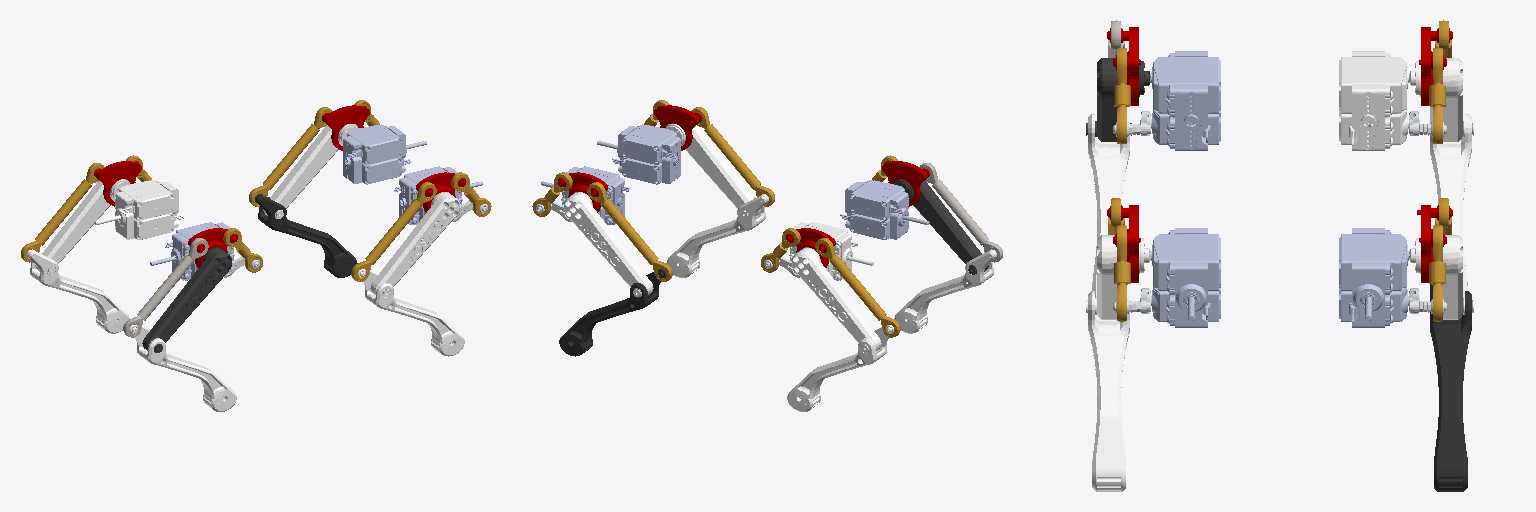
--- Render facts (derived) ---
Views: 3 orthographic renders of the robot side by side, from view 1: azimuth 30°, elevation 25°; view 2: azimuth 150°, elevation 25°; view 3: azimuth 270°, elevation 25°.
Model URDF_MOSAC_V3 with 37 links and 36 joints (36 continuous), rooted at chasis_base_link, posed every joint at zero.
Links seen in each view (by area): view 1: BBL_link, BFL_link, BR_servo_femur_link, FR_servo_femur_link, FL_tibia_link, BL_tibia_link, BR_tibia_link, FR_tibia_link, FL_servo_femur_link, BL_servo_femur_link, FR_rotula_grande_tibia_link, BR_rotula_grande_tibia_link (+10 smaller); view 2: BBR_link, BFR_link, BL_servo_femur_link, FL_servo_femur_link, BR_tibia_link, FR_tibia_link, BL_tibia_link, FL_tibia_link, FR_servo_femur_link, BR_servo_femur_link, FL_rotula_grande_tibia_link, BL_rotula_grande_tibia_link (+10 smaller); view 3: BFR_link, BFL_link, BBR_link, BBL_link, FR_tibia_link, FL_tibia_link, BR_tibia_link, BL_tibia_link, FR_servo_femur_link, FL_servo_femur_link, BR_servo_femur_link, BL_servo_femur_link (+8 smaller).
Link boxes in pixels (left/top/right/bottom): BBL_link: left=94, top=180, right=183, bottom=239; BFL_link: left=343, top=124, right=426, bottom=184; BR_servo_femur_link: left=142, top=247, right=231, bottom=352; FR_servo_femur_link: left=370, top=192, right=459, bottom=296; FL_tibia_link: left=255, top=194, right=357, bottom=277; BL_tibia_link: left=27, top=249, right=129, bottom=333; BR_tibia_link: left=130, top=325, right=236, bottom=411; FR_tibia_link: left=358, top=269, right=464, bottom=356; FL_servo_femur_link: left=263, top=124, right=358, bottom=218; BL_servo_femur_link: left=35, top=179, right=129, bottom=274; FR_rotula_grande_tibia_link: left=351, top=182, right=436, bottom=281; BR_rotula_grande_tibia_link: left=123, top=238, right=208, bottom=337; BBR_link: left=840, top=180, right=929, bottom=239; BFR_link: left=597, top=124, right=680, bottom=184; BL_servo_femur_link: left=792, top=247, right=881, bottom=352; FL_servo_femur_link: left=564, top=192, right=653, bottom=296; BR_tibia_link: left=894, top=249, right=996, bottom=333; FR_tibia_link: left=666, top=194, right=768, bottom=277; BL_tibia_link: left=787, top=325, right=893, bottom=411; FL_tibia_link: left=559, top=269, right=665, bottom=356; FR_servo_femur_link: left=665, top=124, right=760, bottom=218; BR_servo_femur_link: left=894, top=179, right=988, bottom=274; FL_rotula_grande_tibia_link: left=587, top=182, right=672, bottom=281; BL_rotula_grande_tibia_link: left=815, top=238, right=900, bottom=337; BFR_link: left=1150, top=228, right=1220, bottom=327; BFL_link: left=1339, top=228, right=1409, bottom=327; BBR_link: left=1150, top=51, right=1220, bottom=150; BBL_link: left=1339, top=51, right=1409, bottom=150; FR_tibia_link: left=1088, top=284, right=1129, bottom=491; FL_tibia_link: left=1430, top=284, right=1471, bottom=491; BR_tibia_link: left=1088, top=107, right=1129, bottom=297; BL_tibia_link: left=1430, top=107, right=1471, bottom=297; FR_servo_femur_link: left=1086, top=235, right=1149, bottom=319; FL_servo_femur_link: left=1410, top=235, right=1473, bottom=319; BR_servo_femur_link: left=1086, top=58, right=1149, bottom=141; BL_servo_femur_link: left=1410, top=58, right=1473, bottom=141.
Bounding box of the posed robot: 0.4183 × 0.2311 × 0.1814 m (x, y, z).
Meshes: 37 distinct files referenced, 28 mesh visuals loaded (28 binary STL); not drawn: 1 (reference not matched to a file when rendering), 8 (file found but could not be loaded).

robot.urdf — URDF_MOSAC_V3:
<?xml version="1.0" encoding="utf-8"?>
<!-- This URDF was automatically created by SolidWorks to URDF Exporter! Originally created by Stephen Brawner ([email redacted]) 
     Commit Version: 1.6.0-1-g15f4949  Build Version: 1.6.7594.29634
     For more information, please see http://wiki.ros.org/sw_urdf_exporter -->
<robot
  name="URDF_MOSAC_V3">
  <link
    name="chasis_base_link">
    <inertial>
      <origin
        xyz="0.000198302223956212 0.000790016683473714 -0.00256053674183077"
        rpy="0 0 0" />
      <mass
        value="1.29553274341194" />
      <inertia
        ixx="0.000833202744245101"
        ixy="1.96875703381211E-06"
        ixz="1.64481390115865E-06"
        iyy="0.00168512814866586"
        iyz="-6.88739932513045E-07"
        izz="0.00189970230471747" />
    </inertial>
    <visual>
      <origin
        xyz="0 0 0"
        rpy="0 0 0" />
      <geometry>
        <mesh
          filename="package://URDF_MOSAC_V3/meshes/chasis_base_link.STL" />
      </geometry>
      <material
        name="">
        <color
          rgba="0.298039215686275 0.298039215686275 0.298039215686275 1" />
      </material>
    </visual>
    <collision>
      <origin
        xyz="0 0 0"
        rpy="0 0 0" />
      <geometry>
        <mesh
          filename="package://URDF_MOSAC_V3/meshes/chasis_base_link.STL" />
      </geometry>
    </collision>
  </link>
  <link
    name="BFR_link">
    <inertial>
      <origin
        xyz="0.00580357222295728 -2.21430391836308E-06 -0.0309194296267032"
        rpy="0 0 0" />
      <mass
        value="0.146947300702439" />
      <inertia
        ixx="2.30747655080909E-05"
        ixy="-2.91317781385845E-09"
        ixz="-1.15103600422596E-09"
        iyy="2.03168443493353E-05"
        iyz="8.25173484736573E-10"
        izz="8.62893173137048E-06" />
    </inertial>
    <visual>
      <origin
        xyz="0 0 0"
        rpy="0 0 0" />
      <geometry>
        <mesh
          filename="package://URDF_MOSAC_V3/meshes/BFR_link.STL" />
      </geometry>
      <material
        name="">
        <color
          rgba="0.792156862745098 0.819607843137255 0.933333333333333 1" />
      </material>
    </visual>
    <collision>
      <origin
        xyz="0 0 0"
        rpy="0 0 0" />
      <geometry>
        <mesh
          filename="package://URDF_MOSAC_V3/meshes/BFR_link.STL" />
      </geometry>
    </collision>
  </link>
  <joint
    name="BFR_joint"
    type="continuous">
    <origin
      xyz="0.0950000000000001 -0.0527500000000021 0.0031999999999997"
      rpy="1.5707963267949 0 -1.5707963267949" />
    <parent
      link="chasis_base_link" />
    <child
      link="BFR_link" />
    <axis
      xyz="0 0 -1" />
  </joint>
  <link
    name="FR_servo_femur_link">
    <inertial>
      <origin
        xyz="-0.026115 -0.024055 0.017002"
        rpy="0 0 0" />
      <mass
        value="0.032489" />
      <inertia
        ixx="9.1106E-06"
        ixy="-8.2102E-06"
        ixz="4.3945E-07"
        iyy="1.046E-05"
        iyz="4.0437E-07"
        izz="1.829E-05" />
    </inertial>
    <visual>
      <origin
        xyz="0 0 0"
        rpy="0 0 0" />
      <geometry>
        <mesh
          filename="package://URDF_MOSAC_V3/meshes/FR_servo_femur_link.STL" />
      </geometry>
      <material
        name="">
        <color
          rgba="1 1 1 1" />
      </material>
    </visual>
    <collision>
      <origin
        xyz="0 0 0"
        rpy="0 0 0" />
      <geometry>
        <mesh
          filename="package://URDF_MOSAC_V3/meshes/FR_servo_femur_link.STL" />
      </geometry>
    </collision>
  </link>
  <joint
    name="FR_servo_femur_joint"
    type="continuous">
    <origin
      xyz="0.02675 0.010265 -0.02005"
      rpy="0 1.5708 0" />
    <parent
      link="BFR_link" />
    <child
      link="FR_servo_femur_link" />
    <axis
      xyz="0 0 -1" />
  </joint>
  <link
    name="FR_tibia_link">
    <inertial>
      <origin
        xyz="0.033067 -0.033197 -0.00099587"
        rpy="0 0 0" />
      <mass
        value="0.028632" />
      <inertia
        ixx="1.1409E-05"
        ixy="1.3197E-05"
        ixz="-2.0267E-07"
        iyy="1.81E-05"
        iyz="2.003E-07"
        izz="2.8685E-05" />
    </inertial>
    <visual>
      <origin
        xyz="0 0 0"
        rpy="0 0 0" />
      <geometry>
        <mesh
          filename="package://URDF_MOSAC_V3/meshes/FR_tibia_link.STL" />
      </geometry>
      <material
        name="">
        <color
          rgba="1 1 1 1" />
      </material>
    </visual>
    <collision>
      <origin
        xyz="0 0 0"
        rpy="0 0 0" />
      <geometry>
        <mesh
          filename="package://URDF_MOSAC_V3/meshes/FR_tibia_link.STL" />
      </geometry>
    </collision>
  </link>
  <joint
    name="FR_tibia_joint"
    type="continuous">
    <origin
      xyz="-0.0735503585991124 -0.0677520829933813 0.0222499999999993"
      rpy="0 0 0" />
    <parent
      link="FR_servo_femur_link" />
    <child
      link="FR_tibia_link" />
    <axis
      xyz="0 0 -1" />
  </joint>
  <link
    name="FR_rotula_grande_tibia_link">
    <inertial>
      <origin
        xyz="0.036775 0.033876 -8.1021E-10"
        rpy="0 0 0" />
      <mass
        value="0.025031" />
      <inertia
        ixx="2.1948E-06"
        ixy="-1.8582E-06"
        ixz="-2.3509E-20"
        iyy="2.5003E-06"
        iyz="-2.2887E-20"
        izz="4.5145E-06" />
    </inertial>
    <visual>
      <origin
        xyz="0 0 0"
        rpy="0 0 0" />
      <geometry>
        <mesh
          filename="package://URDF_MOSAC_V3/meshes/FR_rotula_grande_tibia_link.STL" />
      </geometry>
      <material
        name="">
        <color
          rgba="0.79216 0.60392 0.22745 1" />
      </material>
    </visual>
    <collision>
      <origin
        xyz="0 0 0"
        rpy="0 0 0" />
      <geometry>
        <mesh
          filename="package://URDF_MOSAC_V3/meshes/FR_rotula_grande_tibia_link.STL" />
      </geometry>
    </collision>
  </link>
  <joint
    name="FR_rotula_grande_tibia_joint"
    type="continuous">
    <origin
      xyz="-0.0190918830920368 0.0190918830920368 -0.00424999999999992"
      rpy="0 0 0" />
    <parent
      link="FR_tibia_link" />
    <child
      link="FR_rotula_grande_tibia_link" />
    <axis
      xyz="0 0 -1" />
  </joint>
  <link
    name="FR_rotula_grande_shoulder_link">
    <inertial>
      <origin
        xyz="-0.101895366872607 -0.0363666817231912 -0.0979013501139168"
        rpy="0 0 0" />
      <mass
        value="2.44638584956499" />
      <inertia
        ixx="0.0115356914385574"
        ixy="-0.000546449948935326"
        ixz="1.09216778904861E-06"
        iyy="0.0374696790390071"
        iyz="-3.64842253552065E-06"
        izz="0.0306418924734276" />
    </inertial>
    <visual>
      <origin
        xyz="0 0 0"
        rpy="0 0 0" />
      <geometry>
        <mesh
          filename="package://URDF_MOSAC_V3/meshes/FR_rotula_grande_shoulder_link.STL" />
      </geometry>
      <material
        name="">
        <color
          rgba="1 1 1 1" />
      </material>
    </visual>
    <collision>
      <origin
        xyz="0 0 0"
        rpy="0 0 0" />
      <geometry>
        <mesh
          filename="package://URDF_MOSAC_V3/meshes/FR_rotula_grande_shoulder_link.STL" />
      </geometry>
    </collision>
  </link>
  <joint
    name="FR_rotula_grande_shoulder_joint"
    type="continuous">
    <origin
      xyz="0.0735503585991122 0.067752082993381 0"
      rpy="0 0 0" />
    <parent
      link="FR_rotula_grande_tibia_link" />
    <child
      link="FR_rotula_grande_shoulder_link" />
    <axis
      xyz="0 0 -1" />
  </joint>
  <link
    name="FR_servo_tibia_link">
    <inertial>
      <origin
        xyz="0.0159833578481644 0.00481570219064981 0.0107580300482716"
        rpy="0 0 0" />
      <mass
        value="0.00954145739699784" />
      <inertia
        ixx="1.8817405945261E-07"
        ixy="-9.31511413619109E-08"
        ixz="-6.30528372353463E-09"
        iyy="4.5799518668205E-07"
        iyz="-1.87962496032623E-09"
        izz="4.80025653135766E-07" />
    </inertial>
    <visual>
      <origin
        xyz="0 0 0"
        rpy="0 0 0" />
      <geometry>
        <mesh
          filename="package://URDF_MOSAC_V3/meshes/FR_servo_tibia_link.STL" />
      </geometry>
      <material
        name="">
        <color
          rgba="0.898039215686275 0.917647058823529 0.929411764705882 1" />
      </material>
    </visual>
    <collision>
      <origin
        xyz="0 0 0"
        rpy="0 0 0" />
      <geometry>
        <mesh
          filename="package://URDF_MOSAC_V3/meshes/FR_servo_tibia_link.STL" />
      </geometry>
    </collision>
  </link>
  <joint
    name="FR_servo_tibia_joint"
    type="continuous">
    <origin
      xyz="0.0237499999999999 -0.0102651900000003 -0.0400500000000001"
      rpy="0 1.5707963267949 0" />
    <parent
      link="BFR_link" />
    <child
      link="FR_servo_tibia_link" />
    <axis
      xyz="0 0 -1" />
  </joint>
  <link
    name="FR_rotula_chica_servo_link">
    <inertial>
      <origin
        xyz="-0.0119446749891011 0.0163519796784593 -3.53728038526846E-09"
        rpy="0 0 0" />
      <mass
        value="0.0212411021526319" />
      <inertia
        ixx="1.37894414692167E-06"
        ixy="6.94555173246614E-07"
        ixz="2.96953436390863E-21"
        iyy="9.3547732569323E-07"
        iyz="-7.43056569167925E-21"
        izz="2.18875834241513E-06" />
    </inertial>
    <visual>
      <origin
        xyz="0 0 0"
        rpy="0 0 0" />
      <geometry>
        <mesh
          filename="package://URDF_MOSAC_V3/meshes/FR_rotula_chica_servo_link.STL" />
      </geometry>
      <material
        name="">
        <color
          rgba="0.792156862745098 0.603921568627451 0.227450980392157 1" />
      </material>
    </visual>
    <collision>
      <origin
        xyz="0 0 0"
        rpy="0 0 0" />
      <geometry>
        <mesh
          filename="package://URDF_MOSAC_V3/meshes/FR_rotula_chica_servo_link.STL" />
      </geometry>
    </collision>
  </link>
  <joint
    name="FR_rotula_chica_servo_joint"
    type="continuous">
    <origin
      xyz="0.0229812330702389 0.00691830373511843 0.0175000000000001"
      rpy="0 0 0" />
    <parent
      link="FR_servo_tibia_link" />
    <child
      link="FR_rotula_chica_servo_link" />
    <axis
      xyz="0 0 -1" />
  </joint>
  <link
    name="FR_rotula_chica_shoulder_link">
    <inertial>
      <origin
        xyz="-0.14007913305668 -0.0363666817231914 -0.0944013501139169"
        rpy="0 0 0" />
      <mass
        value="2.44638584956499" />
      <inertia
        ixx="0.0115356914385574"
        ixy="-0.000546449948935327"
        ixz="1.09216778905103E-06"
        iyy="0.0374696790390071"
        iyz="-3.64842253551714E-06"
        izz="0.0306418924734276" />
    </inertial>
    <visual>
      <origin
        xyz="0 0 0"
        rpy="0 0 0" />
      <geometry>
        <mesh
          filename="package://URDF_MOSAC_V3/meshes/FR_rotula_chica_shoulder_link.STL" />
      </geometry>
      <material
        name="">
        <color
          rgba="1 1 1 1" />
      </material>
    </visual>
    <collision>
      <origin
        xyz="0 0 0"
        rpy="0 0 0" />
      <geometry>
        <mesh
          filename="package://URDF_MOSAC_V3/meshes/FR_rotula_chica_shoulder_link.STL" />
      </geometry>
    </collision>
  </link>
  <joint
    name="FR_rotula_chica_shoulder_joint"
    type="continuous">
    <origin
      xyz="-0.0238893499782023 0.0327039593569184 0"
      rpy="0 0 0" />
    <parent
      link="FR_rotula_chica_servo_link" />
    <child
      link="FR_rotula_chica_shoulder_link" />
    <axis
      xyz="0 0 -1" />
  </joint>
  <link
    name="FR_shoulder_link">
    <inertial>
      <origin
        xyz="-0.000274227616470418 0.0161255561090121 0.0133503586733236"
        rpy="0 0 0" />
      <mass
        value="0.0142287480697829" />
      <inertia
        ixx="9.00193195438369E-07"
        ixy="3.62222484143162E-08"
        ixz="4.92972428113553E-09"
        iyy="8.69950129333093E-07"
        iyz="2.80535145518183E-08"
        izz="1.55990763016637E-06" />
    </inertial>
    <visual>
      <origin
        xyz="0 0 0"
        rpy="0 0 0" />
      <geometry>
        <mesh
          filename="package://URDF_MOSAC_V3/meshes/FR_shoulder_link.STL" />
      </geometry>
      <material
        name="">
        <color
          rgba="0.752941176470588 0 0 1" />
      </material>
    </visual>
    <collision>
      <origin
        xyz="0 0 0"
        rpy="0 0 0" />
      <geometry>
        <mesh
          filename="package://URDF_MOSAC_V3/meshes/FR_shoulder_link.STL" />
      </geometry>
    </collision>
  </link>
  <joint
    name="FR_shoulder_joint"
    type="continuous">
    <origin
      xyz="0.0267500000000001 0.0102651899999998 -0.02005"
      rpy="0 1.5707963267949 0" />
    <parent
      link="BFR_link" />
    <child
      link="FR_shoulder_link" />
    <axis
      xyz="0 0 -1" />
  </joint>
  <link
    name="BBR_link">
    <inertial>
      <origin
        xyz="0.00580357222295726 2.21430391783572E-06 0.0309194296267045"
        rpy="0 0 0" />
      <mass
        value="0.146947300702438" />
      <inertia
        ixx="2.30747655080907E-05"
        ixy="2.91317781383468E-09"
        ixz="1.15103600420103E-09"
        iyy="2.03168443493352E-05"
        iyz="8.25173484750015E-10"
        izz="8.62893173137044E-06" />
    </inertial>
    <visual>
      <origin
        xyz="0 0 0"
        rpy="0 0 0" />
      <geometry>
        <mesh
          filename="package://URDF_MOSAC_V3/meshes/BBR_link.STL" />
      </geometry>
      <material
        name="">
        <color
          rgba="0.792156862745098 0.819607843137255 0.933333333333333 1" />
      </material>
    </visual>
    <collision>
      <origin
        xyz="0 0 0"
        rpy="0 0 0" />
      <geometry>
        <mesh
          filename="package://URDF_MOSAC_V3/meshes/BBR_link.STL" />
      </geometry>
    </collision>
  </link>
  <joint
    name="BBR_joint"
    type="continuous">
    <origin
      xyz="-0.0950000000000004 -0.0527500000000012 0.00319999999999929"
      rpy="1.5707963267949 0 -1.5707963267949" />
    <parent
      link="chasis_base_link" />
    <child
      link="BBR_link" />
    <axis
      xyz="0 0 -1" />
  </joint>
  <link
    name="BR_servo_femur_link">
    <inertial>
      <origin
        xyz="-0.0261151066511311 -0.0240545491579214 0.0170024536324109"
        rpy="0 0 0" />
      <mass
        value="0.0324890881993818" />
      <inertia
        ixx="9.11061609093014E-06"
        ixy="-8.21022128364947E-06"
        ixz="4.39453441553311E-07"
        iyy="1.04603368281781E-05"
        iyz="4.04373160912624E-07"
        izz="1.82902270895199E-05" />
    </inertial>
    <visual>
      <origin
        xyz="0 0 0"
        rpy="0 0 0" />
      <geometry>
        <mesh
          filename="package://URDF_MOSAC_V3/meshes/BR_servo_femur_link.STL" />
      </geometry>
      <material
        name="">
        <color
          rgba="0.298039215686275 0.298039215686275 0.298039215686275 1" />
      </material>
    </visual>
    <collision>
      <origin
        xyz="0 0 0"
        rpy="0 0 0" />
      <geometry>
        <mesh
          filename="package://URDF_MOSAC_V3/meshes/BR_servo_femur_link.STL" />
      </geometry>
    </collision>
  </link>
  <joint
    name="BR_servo_femur_joint"
    type="continuous">
    <origin
      xyz="0.0267500000000001 0.01026519 0.0400500000000006"
      rpy="0 1.5707963267949 0" />
    <parent
      link="BBR_link" />
    <child
      link="BR_servo_femur_link" />
    <axis
      xyz="0 0 -1" />
  </joint>
  <link
    name="BR_tibia_link">
    <inertial>
      <origin
        xyz="0.0330667145752144 -0.033196726755879 -0.000995868740702996"
        rpy="0 0 0" />
      <mass
        value="0.0286324614496181" />
      <inertia
        ixx="1.14089648000804E-05"
        ixy="1.31970155140238E-05"
        ixz="-2.02666470709918E-07"
        iyy="1.80998449745051E-05"
        iyz="2.0030448756035E-07"
        izz="2.86846084154572E-05" />
    </inertial>
    <visual>
      <origin
        xyz="0 0 0"
        rpy="0 0 0" />
      <geometry>
        <mesh
          filename="package://URDF_MOSAC_V3/meshes/BR_tibia_link.STL" />
      </geometry>
      <material
        name="">
        <color
          rgba="1 1 1 1" />
      </material>
    </visual>
    <collision>
      <origin
        xyz="0 0 0"
        rpy="0 0 0" />
      <geometry>
        <mesh
          filename="package://URDF_MOSAC_V3/meshes/BR_tibia_link.STL" />
      </geometry>
    </collision>
  </link>
  <joint
    name="BR_tibia_joint"
    type="continuous">
    <origin
      xyz="-0.073550358599111 -0.067752082993381 0.0222499999999999"
      rpy="0 0 0" />
    <parent
      link="BR_servo_femur_link" />
    <child
      link="BR_tibia_link" />
    <axis
      xyz="0 0 -1" />
  </joint>
  <link
    name="BR_rotula_grande_tibia_link">
    <inertial>
      <origin
        xyz="0.0367751792995561 0.0338760414966905 -8.10212494317675E-10"
        rpy="0 0 0" />
      <mass
        value="0.025031101713345" />
      <inertia
        ixx="2.19479528395989E-06"
        ixy="-1.85820838337537E-06"
        ixz="-6.85226835904646E-21"
        iyy="2.50030996841478E-06"
        iyz="-8.63715538299049E-21"
        izz="4.51448703938679E-06" />
    </inertial>
    <visual>
      <origin
        xyz="0 0 0"
        rpy="0 0 0" />
      <geometry>
        <mesh
          filename="package://URDF_MOSAC_V3/meshes/BR_rotula_grande_tibia_link.STL" />
      </geometry>
      <material
        name="">
        <color
          rgba="0.776470588235294 0.756862745098039 0.737254901960784 1" />
      </material>
    </visual>
    <collision>
      <origin
        xyz="0 0 0"
        rpy="0 0 0" />
      <geometry>
        <mesh
          filename="package://URDF_MOSAC_V3/meshes/BR_rotula_grande_tibia_link.STL" />
      </geometry>
    </collision>
  </link>
  <joint
    name="BR_rotula_grande_tibia_joint"
    type="continuous">
    <origin
      xyz="-0.0190918830920369 0.0190918830920367 -0.004249999999999"
      rpy="0 0 0" />
    <parent
      link="BR_tibia_link" />
    <child
      link="BR_rotula_grande_tibia_link" />
    <axis
      xyz="0 0 1" />
  </joint>
  <link
    name="BR_rotula_grande_shoulder_link">
    <inertial>
      <origin
        xyz="0.148204633127393 -0.0363666817231914 -0.0979013501139178"
        rpy="0 0 0" />
      <mass
        value="2.44638584956499" />
      <inertia
        ixx="0.0115356914385574"
        ixy="-0.000546449948935318"
        ixz="1.09216778917441E-06"
        iyy="0.0374696790390071"
        iyz="-3.64842253551653E-06"
        izz="0.0306418924734276" />
    </inertial>
    <visual>
      <origin
        xyz="0 0 0"
        rpy="0 0 0" />
      <geometry>
        <mesh
          filename="package://URDF_MOSAC_V3/meshes/BR_rotula_grande_shoulder_link.STL" />
      </geometry>
      <material
        name="">
        <color
          rgba="1 1 1 1" />
      </material>
    </visual>
    <collision>
      <origin
        xyz="0 0 0"
        rpy="0 0 0" />
      <geometry>
        <mesh
          filename="package://URDF_MOSAC_V3/meshes/BR_rotula_grande_shoulder_link.STL" />
      </geometry>
    </collision>
  </link>
  <joint
    name="BR_rotula_grande_shoulder_joint"
    type="continuous">
    <origin
      xyz="0.0735503585991123 0.067752082993381 0"
      rpy="0 0 0" />
    <parent
      link="BR_rotula_grande_tibia_link" />
    <child
      link="BR_rotula_grande_shoulder_link" />
    <axis
      xyz="0 0 1" />
  </joint>
  <link
    name="BR_servo_tibia_link">
    <inertial>
      <origin
        xyz="0.0159833578481567 0.00481570219064661 0.0107580300482714"
        rpy="0 0 0" />
      <mass
        value="0.00954145739699796" />
      <inertia
        ixx="1.88174059452613E-07"
        ixy="-9.31511413619149E-08"
        ixz="-6.30528372352818E-09"
        iyy="4.57995186682055E-07"
        iyz="-1.87962496032899E-09"
        izz="4.80025653135774E-07" />
    </inertial>
    <visual>
      <origin
        xyz="0 0 0"
        rpy="0 0 0" />
      <geometry>
        <mesh
          filename="package://URDF_MOSAC_V3/meshes/BR_servo_tibia_link.STL" />
      </geometry>
      <material
        name="">
        <color
          rgba="0.898039215686275 0.917647058823529 0.929411764705882 1" />
      </material>
    </visual>
    <collision>
      <origin
        xyz="0 0 0"
        rpy="0 0 0" />
      <geometry>
        <mesh
          filename="package://URDF_MOSAC_V3/meshes/BR_servo_tibia_link.STL" />
      </geometry>
    </collision>
  </link>
  <joint
    name="BR_servo_tibia_joint"
    type="continuous">
    <origin
      xyz="0.0237499999999999 -0.0102651899999999 0.0200499999999995"
      rpy="0 1.5707963267949 0" />
    <parent
      link="BBR_link" />
    <child
      link="BR_servo_tibia_link" />
    <axis
      xyz="0 0 1" />
  </joint>
  <link
    name="BR_rotula_chica_servo_link">
    <inertial>
      <origin
        xyz="-0.0119446749891012 0.0163519796784591 -3.53728037139067E-09"
        rpy="0 0 0" />
      <mass
        value="0.021241102152632" />
      <inertia
        ixx="1.37894414692167E-06"
        ixy="6.94555173246615E-07"
        ixz="6.99463364019295E-21"
        iyy="9.35477325693231E-07"
        iyz="-1.01893368014401E-20"
        izz="2.18875834241514E-06" />
    </inertial>
    <visual>
      <origin
        xyz="0 0 0"
        rpy="0 0 0" />
      <geometry>
        <mesh
          filename="package://URDF_MOSAC_V3/meshes/BR_rotula_chica_servo_link.STL" />
      </geometry>
      <material
        name="">
        <color
          rgba="0.792156862745098 0.603921568627451 0.227450980392157 1" />
      </material>
    </visual>
    <collision>
      <origin
        xyz="0 0 0"
        rpy="0 0 0" />
      <geometry>
        <mesh
          filename="package://URDF_MOSAC_V3/meshes/BR_rotula_chica_servo_link.STL" />
      </geometry>
    </collision>
  </link>
  <joint
    name="BR_rotula_chica_servo_joint"
    type="continuous">
    <origin
      xyz="0.0229812330702279 0.00691830373511376 0.0174999999999999"
      rpy="0 0 0" />
    <parent
      link="BR_servo_tibia_link" />
    <child
      link="BR_rotula_chica_servo_link" />
    <axis
      xyz="0 0 -1" />
  </joint>
  <link
    name="BR_rotula_chica_shoulder_link">
    <inertial>
      <origin
        xyz="0.110020866943331 -0.0363666817231867 -0.0944013501139167"
        rpy="0 0 0" />
      <mass
        value="2.44638584956499" />
      <inertia
        ixx="0.0115356914385574"
        ixy="-0.000546449948935318"
        ixz="1.09216778915106E-06"
        iyy="0.0374696790390071"
        iyz="-3.64842253552516E-06"
        izz="0.0306418924734276" />
    </inertial>
    <visual>
      <origin
        xyz="0 0 0"
        rpy="0 0 0" />
      <geometry>
        <mesh
          filename="package://URDF_MOSAC_V3/meshes/BR_rotula_chica_shoulder_link.STL" />
      </geometry>
      <material
        name="">
        <color
          rgba="1 1 1 1" />
      </material>
    </visual>
    <collision>
      <origin
        xyz="0 0 0"
        rpy="0 0 0" />
      <geometry>
        <mesh
          filename="package://URDF_MOSAC_V3/meshes/BR_rotula_chica_shoulder_link.STL" />
      </geometry>
    </collision>
  </link>
  <joint
    name="BR_rotula_chica_shoulder_joint"
    type="continuous">
    <origin
      xyz="-0.0238893499782024 0.0327039593569184 0"
      rpy="0 0 0" />
    <parent
      link="BR_rotula_chica_servo_link" />
    <child
      link="BR_rotula_chica_shoulder_link" />
    <axis
      xyz="0 0 -1" />
  </joint>
  <link
    name="BR_shoulder_link">
    <inertial>
      <origin
        xyz="-0.000274227616472091 0.016125556109011 0.0133503586733241"
        rpy="0 0 0" />
      <mass
        value="0.0142287480697829" />
      <inertia
        ixx="9.00193195438369E-07"
        ixy="3.62222484143161E-08"
        ixz="4.92972428114097E-09"
        iyy="8.69950129333091E-07"
        iyz="2.80535145518168E-08"
        izz="1.55990763016637E-06" />
    </inertial>
    <visual>
      <origin
        xyz="0 0 0"
        rpy="0 0 0" />
      <geometry>
        <mesh
          filename="package://URDF_MOSAC_V3/meshes/BR_shoulder_link.STL" />
      </geometry>
      <material
        name="">
        <color
          rgba="0.752941176470588 0 0 1" />
      </material>
    </visual>
    <collision>
      <origin
        xyz="0 0 0"
        rpy="0 0 0" />
      <geometry>
        <mesh
          filename="package://URDF_MOSAC_V3/meshes/BR_shoulder_link.STL" />
      </geometry>
    </collision>
  </link>
  <joint
    name="BR_shoulder_joint"
    type="continuous">
    <origin
      xyz="0.0267500000000001 0.01026519 0.0400500000000006"
      rpy="0 1.5707963267949 0" />
    <parent
      link="BBR_link" />
    <child
      link="BR_shoulder_link" />
    <axis
      xyz="0 0 -1" />
  </joint>
  <link
    name="BFL_link">
    <inertial>
      <origin
        xyz="0.005803572222957 -2.21430391561528E-06 0.0309194296267054"
        rpy="0 0 0" />
      <mass
        value="0.146947300702439" />
      <inertia
        ixx="2.30747655080909E-05"
        ixy="-2.91317781383704E-09"
        ixz="1.15103600409299E-09"
        iyy="2.03168443493354E-05"
        iyz="-3.55822581511769E-10"
        izz="8.62893173137048E-06" />
    </inertial>
    <visual>
      <origin
        xyz="0 0 0"
        rpy="0 0 0" />
      <geometry>
        <mesh
          filename="package://URDF_MOSAC_V3/meshes/BFL_link.STL" />
      </geometry>
      <material
        name="">
        <color
          rgba="0.792156862745098 0.819607843137255 0.933333333333333 1" />
      </material>
    </visual>
    <collision>
      <origin
        xyz="0 0 0"
        rpy="0 0 0" />
      <geometry>
        <mesh
          filename="package://URDF_MOSAC_V3/meshes/BFL_link.STL" />
      </geometry>
    </collision>
  </link>
  <joint
    name="BFL_joint"
    type="continuous">
    <origin
      xyz="0.0950000000000004 0.0527500000000002 0.00320000000000001"
      rpy="1.5707963267949 0 1.57079632679489" />
    <parent
      link="chasis_base_link" />
    <child
      link="BFL_link" />
    <axis
      xyz="0 0 1" />
  </joint>
  <link
    name="FL_servo_femur_link">
    <inertial>
      <origin
        xyz="0.0261317238002625 -0.0240698674822808 0.0170024541502923"
        rpy="0 0 0" />
      <mass
        value="0.0324890856452215" />
      <inertia
        ixx="9.10972316627451E-06"
        ixy="8.20930248584696E-06"
        ixz="-4.43505560196217E-07"
        iyy="1.04593958349946E-05"
        iyz="4.08107026195181E-07"
        izz="1.82883924190664E-05" />
    </inertial>
    <visual>
      <origin
        xyz="0 0 0"
        rpy="0 0 0" />
      <geometry>
        <mesh
          filename="package://URDF_MOSAC_V3/meshes/FL_servo_femur_link.STL" />
      </geometry>
      <material
        name="">
        <color
          rgba="1 1 1 1" />
      </material>
    </visual>
    <collision>
      <origin
        xyz="0 0 0"
        rpy="0 0 0" />
      <geometry>
        <mesh
          filename="package://URDF_MOSAC_V3/meshes/FL_servo_femur_link.STL" />
      </geometry>
    </collision>
  </link>
  <joint
    name="FL_servo_femur_joint"
    type="continuous">
    <origin
      xyz="0.0267499999999958 0.0102651900000083 0.0200500000000051"
      rpy="0 1.5707963267949 0" />
    <parent
      link="BFL_link" />
    <child
      link="FL_servo_femur_link" />
    <axis
      xyz="0 0 1" />
  </joint>
  <link
    name="FL_tibia_link">
    <inertial>
      <origin
        xyz="-0.032767128872167 -0.0328964314539006 -0.00106889875377028"
        rpy="0 0 0" />
      <mass
        value="0.0287978610705322" />
      <inertia
        ixx="1.14203774071489E-05"
        ixy="-1.31970344020781E-05"
        ixz="2.02631681826873E-07"
        iyy="1.811119246808E-05"
        iyz="2.00375112861422E-07"
        izz="2.86847900046626E-05" />
    </inertial>
    <visual>
      <origin
        xyz="0 0 0"
        rpy="0 0 0" />
      <geometry>
        <mesh
          filename="package://URDF_MOSAC_V3/meshes/FL_tibia_link.STL" />
      </geometry>
      <material
        name="">
        <color
          rgba="0.243137254901961 0.243137254901961 0.243137254901961 1" />
      </material>
    </visual>
    <collision>
      <origin
        xyz="0 0 0"
        rpy="0 0 0" />
      <geometry>
        <mesh
          filename="package://URDF_MOSAC_V3/meshes/FL_tibia_link.STL" />
      </geometry>
    </collision>
  </link>
  <joint
    name="FL_tibia_joint"
    type="continuous">
    <origin
      xyz="0.073550358599116 -0.0677520829933906 0.0222500000000008"
      rpy="0 0 0" />
    <parent
      link="FL_servo_femur_link" />
    <child
      link="FL_tibia_link" />
    <axis
      xyz="0 0 1" />
  </joint>
  <link
    name="FL_rotula_grande_tibia_link">
    <inertial>
      <origin
        xyz="-0.0367751792995578 0.0338760414966946 7.98866570117518E-10"
        rpy="0 0 0" />
      <mass
        value="0.0250311017155977" />
      <inertia
        ixx="2.19479528423576E-06"
        ixy="1.85820838339779E-06"
        ixz="-3.75194249146041E-22"
        iyy="2.50030996816245E-06"
        iyz="2.23115102877261E-22"
        izz="4.51448703938884E-06" />
    </inertial>
    <visual>
      <origin
        xyz="0 0 0"
        rpy="0 0 0" />
      <geometry>
        <mesh
          filename="package://URDF_MOSAC_V3/meshes/FL_rotula_grande_tibia_link.STL" />
      </geometry>
      <material
        name="">
        <color
          rgba="0.792156862745098 0.603921568627451 0.227450980392157 1" />
      </material>
    </visual>
    <collision>
      <origin
        xyz="0 0 0"
        rpy="0 0 0" />
      <geometry>
        <mesh
          filename="package://URDF_MOSAC_V3/meshes/FL_rotula_grande_tibia_link.STL" />
      </geometry>
    </collision>
  </link>
  <joint
    name="FL_rotula_grande_tibia_joint"
    type="continuous">
    <origin
      xyz="0.019092 0.019092 -0.00425"
      rpy="0 0 0" />
    <parent
      link="FL_tibia_link" />
    <child
      link="FL_rotula_grande_tibia_link" />
    <axis
      xyz="0 0 1" />
  </joint>
  <link
    name="FL_rotula_grande_shoulder_link">
    <inertial>
      <origin
        xyz="0.101895366872606 -0.0363666817231929 -0.0970986498860829"
        rpy="0 0 0" />
      <mass
        value="2.44638584956499" />
      <inertia
        ixx="0.0115356914385574"
        ixy="0.000546449948935329"
        ixz="1.09216778904768E-06"
        iyy="0.0374696790390071"
        iyz="3.64842253551044E-06"
        izz="0.0306418924734276" />
    </inertial>
    <visual>
      <origin
        xyz="0 0 0"
        rpy="0 0 0" />
      <geometry>
        <mesh
          filename="package://URDF_MOSAC_V3/meshes/FL_rotula_grande_shoulder_link.STL" />
      </geometry>
      <material
        name="">
        <color
          rgba="1 1 1 1" />
      </material>
    </visual>
    <collision>
      <origin
        xyz="0 0 0"
        rpy="0 0 0" />
      <geometry>
        <mesh
          filename="package://URDF_MOSAC_V3/meshes/FL_rotula_grande_shoulder_link.STL" />
      </geometry>
    </collision>
  </link>
  <joint
    name="FL_rotula_grande_shoulder_joint"
    type="continuous">
    <origin
      xyz="-0.0735503585991109 0.0677520829933825 0"
      rpy="0 0 0" />
    <parent
      link="FL_rotula_grande_tibia_link" />
    <child
      link="FL_rotula_grande_shoulder_link" />
    <axis
      xyz="0 0 1" />
  </joint>
  <link
    name="FL_servo_tibia_link">
    <inertial>
      <origin
        xyz="-0.0159855888090539 0.00480828941362624 0.0107580265249396"
        rpy="0 0 0" />
      <mass
        value="0.00954146204923297" />
      <inertia
        ixx="1.84648262524237E-07"
        ixy="8.78258016589265E-08"
        ixz="6.29515453981357E-09"
        iyy="4.61520652790883E-07"
        iyz="-1.91373727192469E-09"
        izz="4.80025352626312E-07" />
    </inertial>
    <visual>
      <origin
        xyz="0 0 0"
        rpy="0 0 0" />
      <geometry>
        <mesh
          filename="package://URDF_MOSAC_V3/meshes/FL_servo_tibia_link.STL" />
      </geometry>
      <material
        name="">
        <color
          rgba="0.898039215686275 0.917647058823529 0.929411764705882 1" />
      </material>
    </visual>
    <collision>
      <origin
        xyz="0 0 0"
        rpy="0 0 0" />
      <geometry>
        <mesh
          filename="package://URDF_MOSAC_V3/meshes/FL_servo_tibia_link.STL" />
      </geometry>
    </collision>
  </link>
  <joint
    name="FL_servo_tibia_joint"
    type="continuous">
    <origin
      xyz="0.023749999999999 -0.0102651899999995 0.04005"
      rpy="0 1.5707963267949 0" />
    <parent
      link="BFL_link" />
    <child
      link="FL_servo_tibia_link" />
    <axis
      xyz="0 0 1" />
  </joint>
  <link
    name="FL_rotula_chica_servo_link">
    <inertial>
      <origin
        xyz="0.0119446749890998 0.0163519796784599 3.52406125114779E-09"
        rpy="0 0 0" />
      <mass
        value="0.0212411021610206" />
      <inertia
        ixx="1.37894414671625E-06"
        ixy="-6.94555173328909E-07"
        ixz="1.49492436627535E-21"
        iyy="9.35477325987543E-07"
        iyz="1.45680943909853E-21"
        izz="2.18875834242399E-06" />
    </inertial>
    <visual>
      <origin
        xyz="0 0 0"
        rpy="0 0 0" />
      <geometry>
        <mesh
          filename="package://URDF_MOSAC_V3/meshes/FL_rotula_chica_servo_link.STL" />
      </geometry>
      <material
        name="">
        <color
          rgba="0.792156862745098 0.603921568627451 0.227450980392157 1" />
      </material>
    </visual>
    <collision>
      <origin
        xyz="0 0 0"
        rpy="0 0 0" />
      <geometry>
        <mesh
          filename="package://URDF_MOSAC_V3/meshes/FL_rotula_chica_servo_link.STL" />
      </geometry>
    </collision>
  </link>
  <joint
    name="FL_rotula_chica_servo_joint"
    type="continuous">
    <origin
      xyz="-0.0229812330702384 0.00691830373511887 0.0174999999999978"
      rpy="0 0 0" />
    <parent
      link="FL_servo_tibia_link" />
    <child
      link="FL_rotula_chica_servo_link" />
    <axis
      xyz="0 0 1" />
  </joint>
  <link
    name="FL_rotula_chica_shoulder_link">
    <inertial>
      <origin
        xyz="0.14007913305668 -0.0363666817231927 -0.0935986498860822"
        rpy="0 0 0" />
      <mass
        value="2.44638584956499" />
      <inertia
        ixx="0.0115356914385574"
        ixy="0.000546449948935328"
        ixz="1.09216778905136E-06"
        iyy="0.0374696790390071"
        iyz="3.64842253551748E-06"
        izz="0.0306418924734276" />
    </inertial>
    <visual>
      <origin
        xyz="0 0 0"
        rpy="0 0 0" />
      <geometry>
        <mesh
          filename="package://URDF_MOSAC_V3/meshes/FL_rotula_chica_shoulder_link.STL" />
      </geometry>
      <material
        name="">
        <color
          rgba="1 1 1 1" />
      </material>
    </visual>
    <collision>
      <origin
        xyz="0 0 0"
        rpy="0 0 0" />
      <geometry>
        <mesh
          filename="package://URDF_MOSAC_V3/meshes/FL_rotula_chica_shoulder_link.STL" />
      </geometry>
    </collision>
  </link>
  <joint
    name="FL_rotula_chica_shoulder_joint"
    type="continuous">
    <origin
      xyz="0.0238893499782026 0.0327039593569181 0"
      rpy="0 0 0" />
    <parent
      link="FL_rotula_chica_servo_link" />
    <child
      link="FL_rotula_chica_shoulder_link" />
    <axis
      xyz="0 0 1" />
  </joint>
  <link
    name="FL_shoulder_link">
    <inertial>
      <origin
        xyz="0.000631880770417204 0.0161819348753459 0.0131830813033722"
        rpy="0 0 0" />
      <mass
        value="0.0145044228251352" />
      <inertia
        ixx="9.29712049629369E-07"
        ixy="-3.62222484143163E-08"
        ixz="-4.92972428112983E-09"
        iyy="8.9946898352409E-07"
        iyz="2.80535145518241E-08"
        izz="1.56021776426615E-06" />
    </inertial>
    <visual>
      <origin
        xyz="0 0 0"
        rpy="0 0 0" />
      <geometry>
        <mesh
          filename="package://URDF_MOSAC_V3/meshes/FL_shoulder_link.STL" />
      </geometry>
      <material
        name="">
        <color
          rgba="0.752941176470588 0 0 1" />
      </material>
    </visual>
    <collision>
      <origin
        xyz="0 0 0"
        rpy="0 0 0" />
      <geometry>
        <mesh
          filename="package://URDF_MOSAC_V3/meshes/FL_shoulder_link.STL" />
      </geometry>
    </collision>
  </link>
  <joint
    name="FL_shoulder_joint"
    type="continuous">
    <origin
      xyz="0.0267499999999958 0.0102651900000083 0.0200500000000051"
      rpy="0 1.5707963267949 0" />
    <parent
      link="BFL_link" />
    <child
      link="FL_shoulder_link" />
    <axis
      xyz="0 0 1" />
  </joint>
  <link
    name="BBL_link">
    <inertial>
      <origin
        xyz="0 0 0"
        rpy="0 0 0" />
      <mass
        value="0" />
      <inertia
        ixx="0"
        ixy="0"
        ixz="0"
        iyy="0"
        iyz="0"
        izz="0" />
    </inertial>
    <visual>
      <origin
        xyz="0 0 0"
        rpy="0 0 0" />
      <geometry>
        <mesh
          filename="package://URDF_MOSAC_V3/meshes/BBL_link.STL" />
      </geometry>
      <material
        name="">
        <color
          rgba="1 1 1 1" />
      </material>
    </visual>
    <collision>
      <origin
        xyz="0 0 0"
        rpy="0 0 0" />
      <geometry>
        <mesh
          filename="package://URDF_MOSAC_V3/meshes/BBL_link.STL" />
      </geometry>
    </collision>
  </link>
  <joint
    name="BBL_joint"
    type="continuous">
    <origin
      xyz="-0.0949999999999865 0.0527499999999996 0.00320000000000006"
      rpy="1.5707963267949 0 1.57079632679489" />
    <parent
      link="chasis_base_link" />
    <child
      link="BBL_link" />
    <axis
      xyz="0 0 1" />
  </joint>
  <link
    name="BL_servo_femur_link">
    <inertial>
      <origin
        xyz="0.0261317238002601 -0.0240698674822727 0.0170024541502911"
        rpy="0 0 0" />
      <mass
        value="0.0324890856452215" />
      <inertia
        ixx="9.10972316627341E-06"
        ixy="8.20930248584688E-06"
        ixz="-4.43505560196269E-07"
        iyy="1.04593958349957E-05"
        iyz="4.08107026195167E-07"
        izz="1.82883924190664E-05" />
    </inertial>
    <visual>
      <origin
        xyz="0 0 0"
        rpy="0 0 0" />
      <geometry>
        <mesh
          filename="package://URDF_MOSAC_V3/meshes/BL_servo_femur_link.STL" />
      </geometry>
      <material
        name="">
        <color
          rgba="1 1 1 1" />
      </material>
    </visual>
    <collision>
      <origin
        xyz="0 0 0"
        rpy="0 0 0" />
      <geometry>
        <mesh
          filename="package://URDF_MOSAC_V3/meshes/BL_servo_femur_link.STL" />
      </geometry>
    </collision>
  </link>
  <joint
    name="BL_servo_femur_joint"
    type="continuous">
    <origin
      xyz="0.026750000000003 0.0102651900000028 -0.0400499999999994"
      rpy="0 1.5707963267949 0" />
    <parent
      link="BBL_link" />
    <child
      link="BL_servo_femur_link" />
    <axis
      xyz="0 0 1" />
  </joint>
  <link
    name="BL_tibia_link">
    <inertial>
      <origin
        xyz="-0.0330667096065842 -0.0331967591474435 -0.000995926305342648"
        rpy="0 0 0" />
      <mass
        value="0.0286324562173207" />
      <inertia
        ixx="1.14089950905382E-05"
        ixy="-1.31970344020782E-05"
        ixz="2.02631681827E-07"
        iyy="1.80998101514693E-05"
        iyz="2.00375112861512E-07"
        izz="2.86846039242029E-05" />
    </inertial>
    <visual>
      <origin
        xyz="0 0 0"
        rpy="0 0 0" />
      <geometry>
        <mesh
          filename="package://URDF_MOSAC_V3/meshes/BL_tibia_link.STL" />
      </geometry>
      <material
        name="">
        <color
          rgba="1 1 1 1" />
      </material>
    </visual>
    <collision>
      <origin
        xyz="0 0 0"
        rpy="0 0 0" />
      <geometry>
        <mesh
          filename="package://URDF_MOSAC_V3/meshes/BL_tibia_link.STL" />
      </geometry>
    </collision>
  </link>
  <joint
    name="BL_tibia_joint"
    type="continuous">
    <origin
      xyz="0.0735503585991155 -0.0677520829933775 0.0222500000000001"
      rpy="0 0 0" />
    <parent
      link="BL_servo_femur_link" />
    <child
      link="BL_tibia_link" />
    <axis
      xyz="0 0 1" />
  </joint>
  <link
    name="BL_rotula_grande_tibia_link">
    <inertial>
      <origin
        xyz="-0.0367751792995577 0.0338760414966887 8.10212633095553E-10"
        rpy="0 0 0" />
      <mass
        value="0.0250311017133451" />
      <inertia
        ixx="2.19479528395972E-06"
        ixy="1.85820838337537E-06"
        ixz="9.04536318999024E-22"
        iyy="2.50030996841496E-06"
        iyz="-6.9626198849883E-22"
        izz="4.51448703938681E-06" />
    </inertial>
    <visual>
      <origin
        xyz="0 0 0"
        rpy="0 0 0" />
      <geometry>
        <mesh
          filename="package://URDF_MOSAC_V3/meshes/BL_rotula_grande_tibia_link.STL" />
      </geometry>
      <material
        name="">
        <color
          rgba="0.792156862745098 0.603921568627451 0.227450980392157 1" />
      </material>
    </visual>
    <collision>
      <origin
        xyz="0 0 0"
        rpy="0 0 0" />
      <geometry>
        <mesh
          filename="package://URDF_MOSAC_V3/meshes/BL_rotula_grande_tibia_link.STL" />
      </geometry>
    </collision>
  </link>
  <joint
    name="BL_rotula_grande_tibia_joint"
    type="continuous">
    <origin
      xyz="0.0190918830920357 0.0190918830920378 -0.00425000000000003"
      rpy="0 0 0" />
    <parent
      link="BL_tibia_link" />
    <child
      link="BL_rotula_grande_tibia_link" />
    <axis
      xyz="0 0 -1" />
  </joint>
  <link
    name="BL_rotula_grande_shoulder_link">
    <inertial>
      <origin
        xyz="-0.148204633127379 -0.036366681723196 -0.0970986498860875"
        rpy="0 0 0" />
      <mass
        value="2.44638584956499" />
      <inertia
        ixx="0.0115356914385574"
        ixy="0.000546449948935322"
        ixz="1.09216778917941E-06"
        iyy="0.0374696790390071"
        iyz="3.64842253551749E-06"
        izz="0.0306418924734276" />
    </inertial>
    <visual>
      <origin
        xyz="0 0 0"
        rpy="0 0 0" />
      <geometry>
        <mesh
          filename="package://URDF_MOSAC_V3/meshes/BL_rotula_grande_shoulder_link.STL" />
      </geometry>
      <material
        name="">
        <color
          rgba="1 1 1 1" />
      </material>
    </visual>
    <collision>
      <origin
        xyz="0 0 0"
        rpy="0 0 0" />
      <geometry>
        <mesh
          filename="package://URDF_MOSAC_V3/meshes/BL_rotula_grande_shoulder_link.STL" />
      </geometry>
    </collision>
  </link>
  <joint
    name="BL_rotula_grande_shoulder_joint"
    type="continuous">
    <origin
      xyz="-0.0735503585991155 0.0677520829933775 0"
      rpy="0 0 0" />
    <parent
      link="BL_rotula_grande_tibia_link" />
    <child
      link="BL_rotula_grande_shoulder_link" />
    <axis
      xyz="0 0 -1" />
  </joint>
  <link
    name="BL_servo_tibia_link">
    <inertial>
      <origin
        xyz="-0.0159855888090537 0.00480828941362488 0.0107580265249416"
        rpy="0 0 0" />
      <mass
        value="0.00954146204923296" />
      <inertia
        ixx="1.8464826252422E-07"
        ixy="8.78258016589014E-08"
        ixz="6.29515453981486E-09"
        iyy="4.61520652790899E-07"
        iyz="-1.91373727192363E-09"
        izz="4.80025352626312E-07" />
    </inertial>
    <visual>
      <origin
        xyz="0 0 0"
        rpy="0 0 0" />
      <geometry>
        <mesh
          filename="package://URDF_MOSAC_V3/meshes/BL_servo_tibia_link.STL" />
      </geometry>
      <material
        name="">
        <color
          rgba="0.898039215686275 0.917647058823529 0.929411764705882 1" />
      </material>
    </visual>
    <collision>
      <origin
        xyz="0 0 0"
        rpy="0 0 0" />
      <geometry>
        <mesh
          filename="package://URDF_MOSAC_V3/meshes/BL_servo_tibia_link.STL" />
      </geometry>
    </collision>
  </link>
  <joint
    name="BL_servo_tibia_joint"
    type="continuous">
    <origin
      xyz="0.0237500000000007 -0.0102651899999983 -0.0200500000000005"
      rpy="0 1.5707963267949 0" />
    <parent
      link="BBL_link" />
    <child
      link="BL_servo_tibia_link" />
    <axis
      xyz="0 0 -1" />
  </joint>
  <link
    name="BL_rotula_chica_servo_link">
    <inertial>
      <origin
        xyz="0.0119446749891003 0.0163519796784592 3.52406136217009E-09"
        rpy="0 0 0" />
      <mass
        value="0.0212411021610204" />
      <inertia
        ixx="1.37894414671632E-06"
        ixy="-6.94555173328871E-07"
        ixz="-5.27087474854826E-22"
        iyy="9.35477325987448E-07"
        iyz="-3.80397352326544E-22"
        izz="2.18875834242396E-06" />
    </inertial>
    <visual>
      <origin
        xyz="0 0 0"
        rpy="0 0 0" />
      <geometry>
        <mesh
          filename="package://URDF_MOSAC_V3/meshes/BL_rotula_chica_servo_link.STL" />
      </geometry>
      <material
        name="">
        <color
          rgba="0.792156862745098 0.603921568627451 0.227450980392157 1" />
      </material>
    </visual>
    <collision>
      <origin
        xyz="0 0 0"
        rpy="0 0 0" />
      <geometry>
        <mesh
          filename="package://URDF_MOSAC_V3/meshes/BL_rotula_chica_servo_link.STL" />
      </geometry>
    </collision>
  </link>
  <joint
    name="BL_rotula_chica_servo_joint"
    type="continuous">
    <origin
      xyz="-0.0229812330702394 0.00691830373511723 0.0175000000000025"
      rpy="0 0 0" />
    <parent
      link="BL_servo_tibia_link" />
    <child
      link="BL_rotula_chica_servo_link" />
    <axis
      xyz="0 0 1" />
  </joint>
  <link
    name="BL_rotula_chica_shoulder_link">
    <inertial>
      <origin
        xyz="-0.110020866943305 -0.0363666817231936 -0.0935986498860876"
        rpy="0 0 0" />
      <mass
        value="2.44638584956499" />
      <inertia
        ixx="0.0115356914385574"
        ixy="0.000546449948935318"
        ixz="1.09216778914763E-06"
        iyy="0.0374696790390071"
        iyz="3.64842253552422E-06"
        izz="0.0306418924734276" />
    </inertial>
    <visual>
      <origin
        xyz="0 0 0"
        rpy="0 0 0" />
      <geometry>
        <mesh
          filename="package://URDF_MOSAC_V3/meshes/BL_rotula_chica_shoulder_link.STL" />
      </geometry>
      <material
        name="">
        <color
          rgba="1 1 1 1" />
      </material>
    </visual>
    <collision>
      <origin
        xyz="0 0 0"
        rpy="0 0 0" />
      <geometry>
        <mesh
          filename="package://URDF_MOSAC_V3/meshes/BL_rotula_chica_shoulder_link.STL" />
      </geometry>
    </collision>
  </link>
  <joint
    name="BL_rotula_chica_shoulder_joint"
    type="continuous">
    <origin
      xyz="0.0238893499782005 0.0327039593569196 0"
      rpy="0 0 0" />
    <parent
      link="BL_rotula_chica_servo_link" />
    <child
      link="BL_rotula_chica_shoulder_link" />
    <axis
      xyz="0 0 1" />
  </joint>
  <link
    name="BL_shoulder_link">
    <inertial>
      <origin
        xyz="0.000274227616469135 0.0161255561090124 0.0133503586733235"
        rpy="0 0 0" />
      <mass
        value="0.0142287480697829" />
      <inertia
        ixx="9.00193195438381E-07"
        ixy="-3.62222484143137E-08"
        ixz="-4.92972428113348E-09"
        iyy="8.69950129333093E-07"
        iyz="2.80535145518239E-08"
        izz="1.55990763016637E-06" />
    </inertial>
    <visual>
      <origin
        xyz="0 0 0"
        rpy="0 0 0" />
      <geometry>
        <mesh
          filename="package://URDF_MOSAC_V3/meshes/BL_shoulder_link.STL" />
      </geometry>
      <material
        name="">
        <color
          rgba="0.752941176470588 0 0 1" />
      </material>
    </visual>
    <collision>
      <origin
        xyz="0 0 0"
        rpy="0 0 0" />
      <geometry>
        <mesh
          filename="package://URDF_MOSAC_V3/meshes/BL_shoulder_link.STL" />
      </geometry>
    </collision>
  </link>
  <joint
    name="BL_shoulder_joint"
    type="continuous">
    <origin
      xyz="0.026750000000003 0.0102651900000028 -0.0400499999999994"
      rpy="0 1.5707963267949 0" />
    <parent
      link="BBL_link" />
    <child
      link="BL_shoulder_link" />
    <axis
      xyz="0 0 1" />
  </joint>
</robot>
